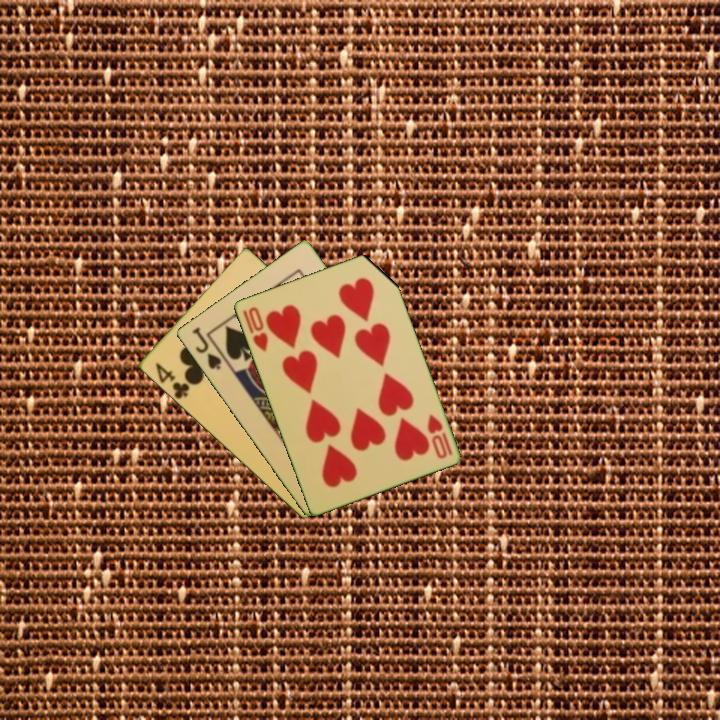10h: (239, 303, 271, 355), (423, 410, 455, 461)
4c: (151, 359, 192, 402)
Js: (188, 323, 224, 373)
